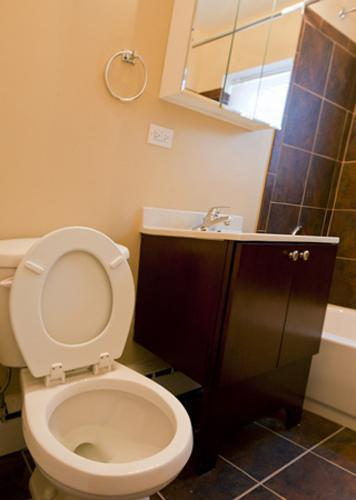Lavamanos: (150, 179, 341, 267)
Sanitario: (0, 207, 202, 499)
